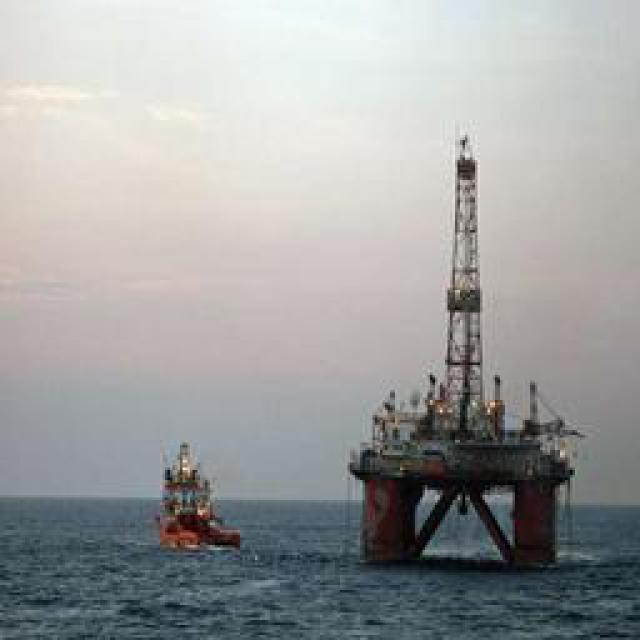Ship: (153, 438, 241, 553)
